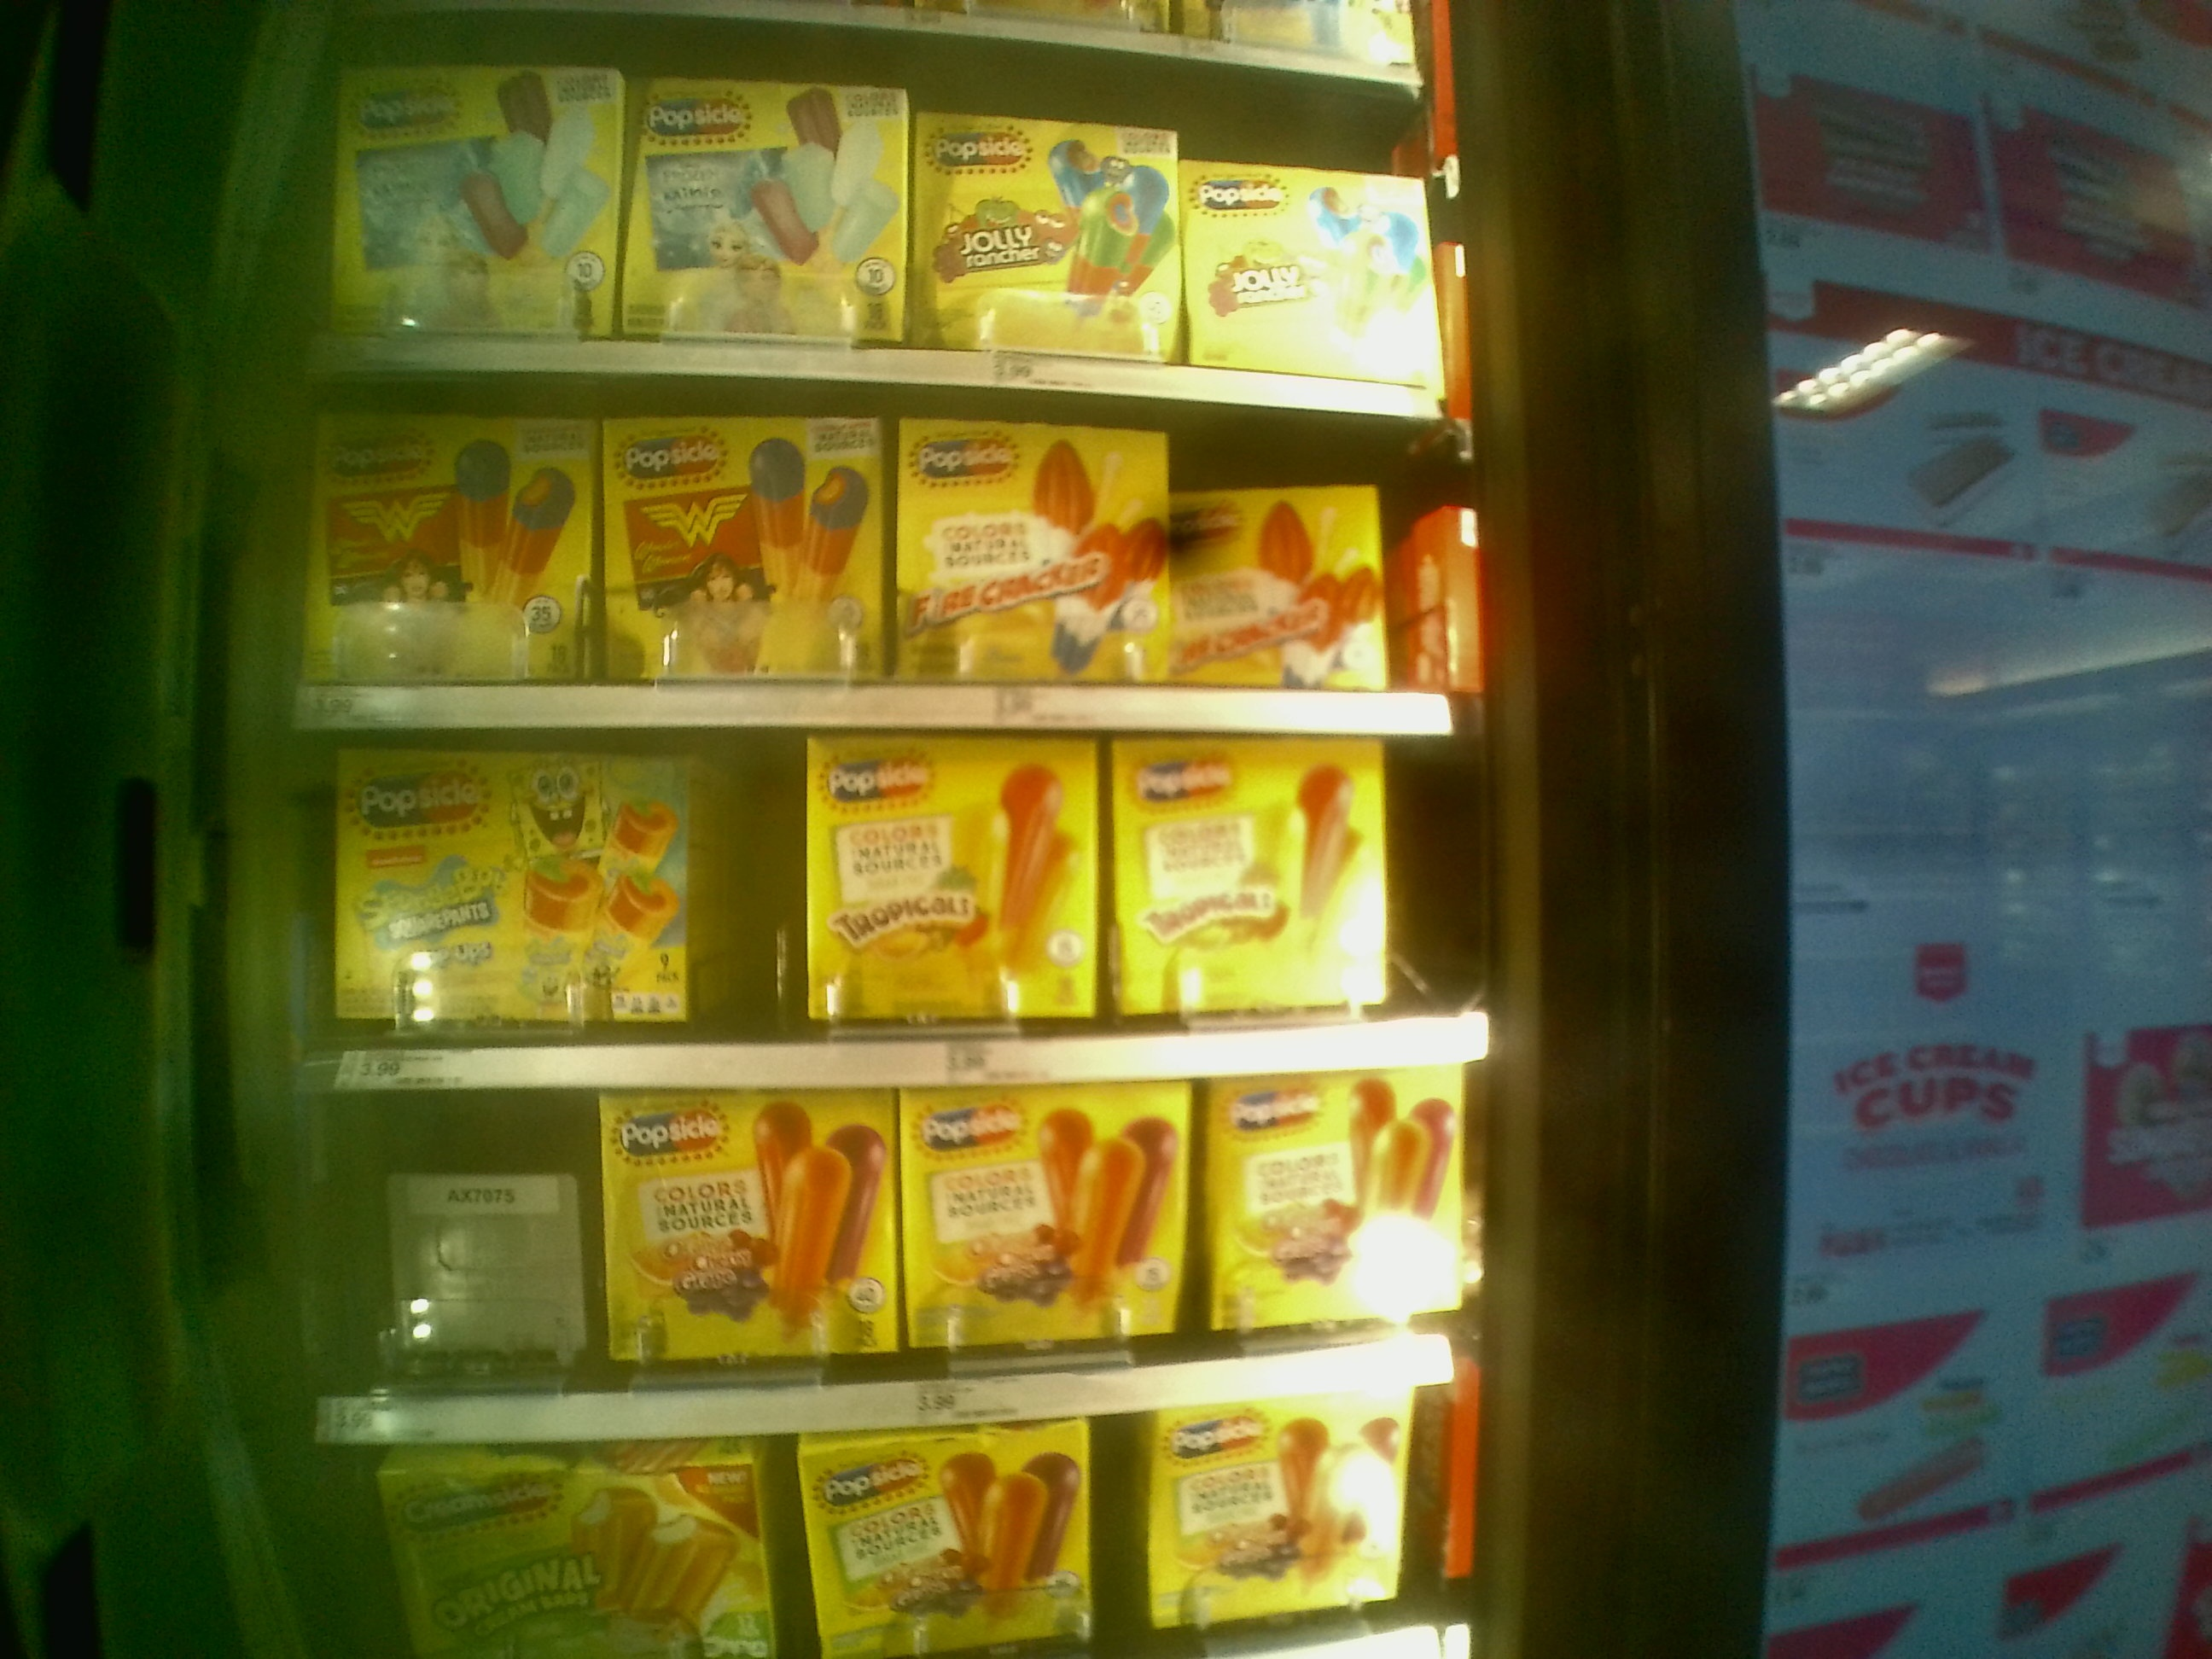shelf: (280, 716, 1491, 1060), (284, 387, 1475, 732), (310, 1087, 1477, 1436)
